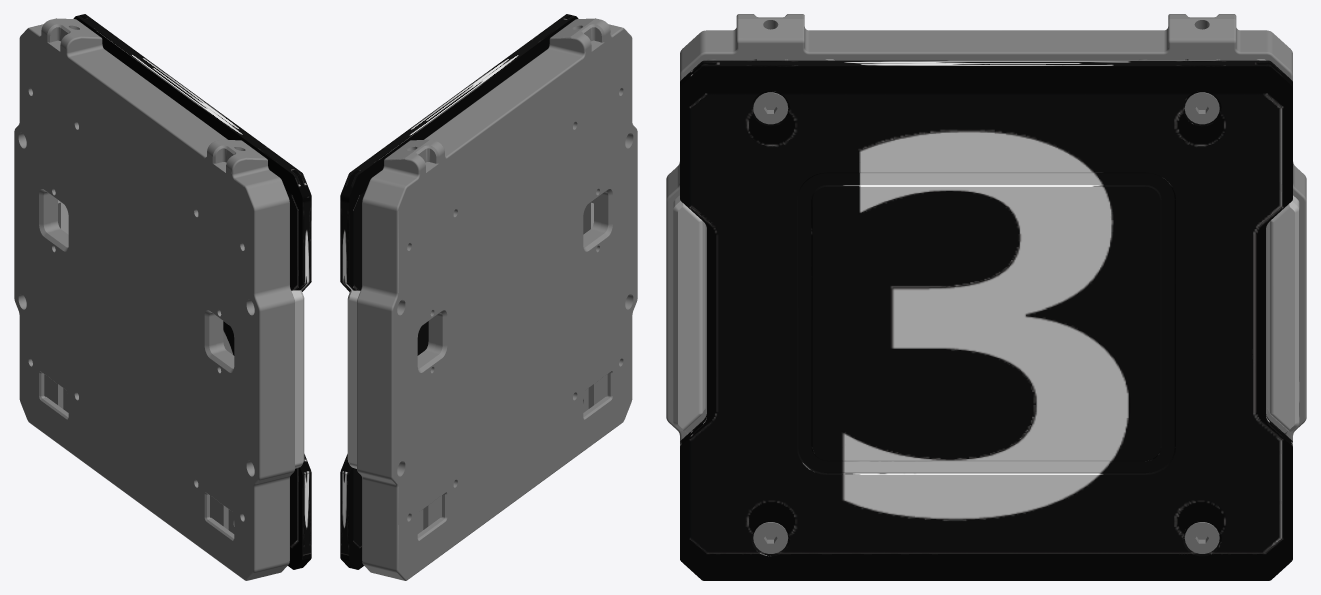
The model's file is small_armor.glb.
3 views of the same model, side by side, from view 1: azimuth 30°, elevation 25°; view 2: azimuth 150°, elevation 25°; view 3: azimuth 270°, elevation 25° (orthographic). The views are drawn at different scales.
Visible parts, largest first — view 1: ArmorBack, ArmorFace, LightRight; view 2: ArmorBack, ArmorFace, LightLeft; view 3: ArmorFace, ArmorBack, LightLeft, LightRight.
Part boxes in pixels (box(x1,y1,x2,y2)): ArmorBack: box(14, 18, 294, 580); ArmorFace: box(73, 14, 311, 569); LightRight: box(291, 290, 304, 468); ArmorBack: box(357, 18, 637, 580); ArmorFace: box(340, 14, 578, 569); LightLeft: box(347, 290, 360, 468); ArmorFace: box(680, 60, 1292, 580); ArmorBack: box(666, 14, 1306, 553); LightLeft: box(1267, 195, 1299, 431); LightRight: box(673, 195, 705, 431).
Bounding box in the file's own units: 0.019 × 0.13 × 0.141.
5 materials, 1 textured.
